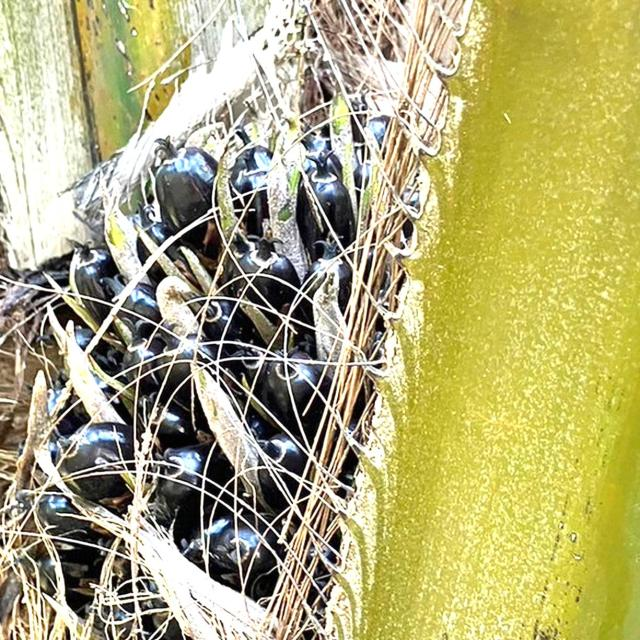unripe: (6, 94, 427, 639)
